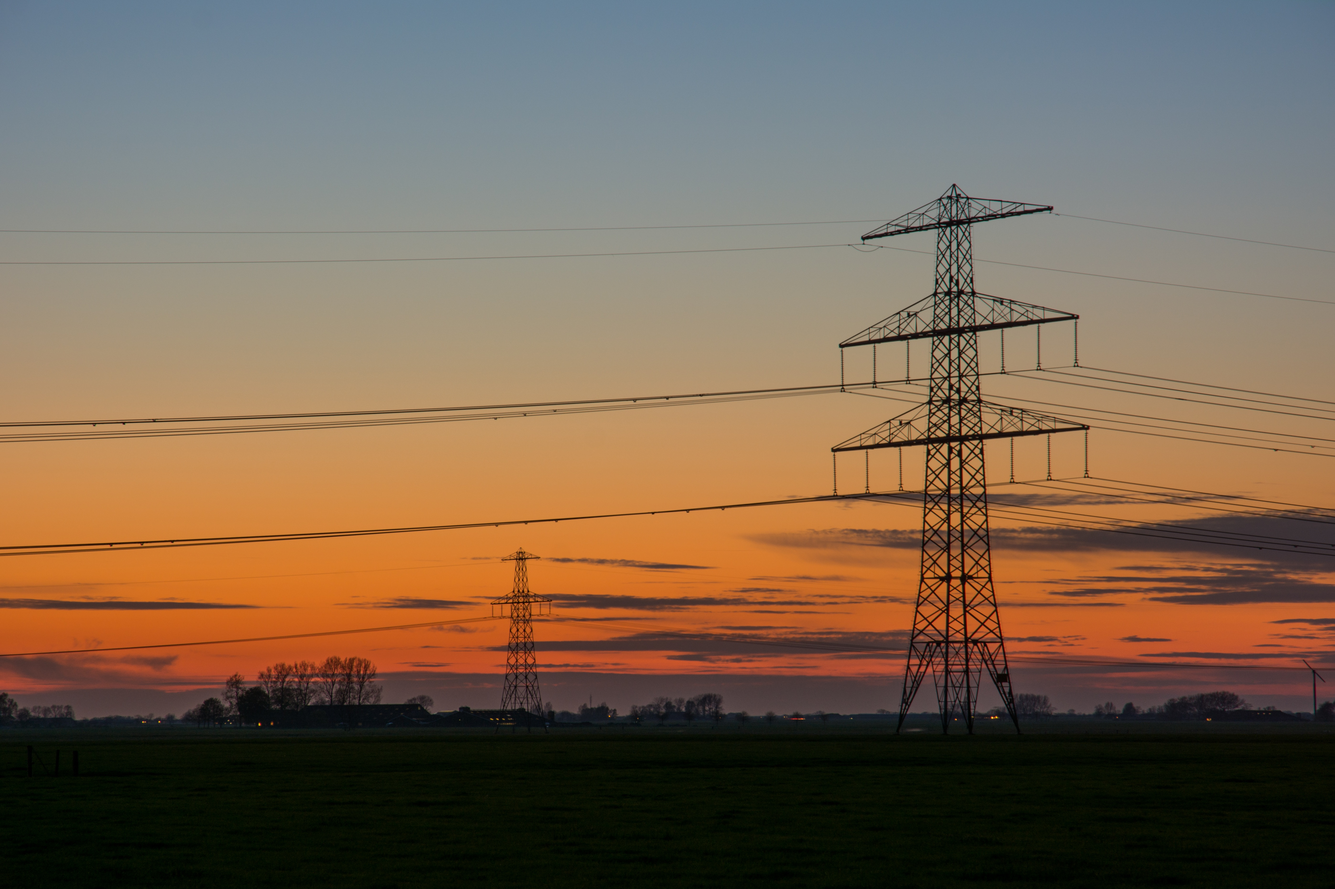insulator: (1082, 431, 1091, 475), (863, 448, 872, 492), (1072, 319, 1080, 365), (1045, 432, 1053, 477), (999, 328, 1007, 372), (1008, 436, 1016, 479), (1035, 324, 1042, 370), (897, 446, 904, 490), (832, 451, 839, 494), (872, 343, 879, 384), (904, 340, 910, 380), (840, 346, 845, 388)
